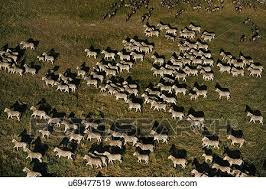sheep: (165, 153, 188, 169), (129, 151, 151, 165), (226, 132, 245, 148), (82, 152, 101, 168), (200, 135, 220, 150), (103, 150, 123, 165), (221, 154, 244, 167), (245, 110, 264, 125), (150, 129, 170, 143), (20, 166, 41, 179), (2, 106, 21, 120), (30, 104, 46, 120), (54, 147, 72, 161), (23, 149, 42, 162), (125, 97, 141, 112), (214, 86, 231, 100), (168, 107, 185, 121), (216, 61, 233, 75), (149, 66, 167, 79), (52, 80, 70, 92), (129, 49, 144, 63), (245, 66, 263, 77), (116, 50, 131, 63), (171, 83, 186, 96), (11, 138, 27, 150), (22, 63, 38, 75), (82, 47, 98, 59), (123, 83, 139, 95), (185, 117, 202, 128), (149, 53, 164, 65), (99, 48, 115, 59), (199, 151, 213, 163), (84, 76, 98, 88), (42, 52, 57, 63), (39, 74, 53, 85), (147, 28, 161, 38)
